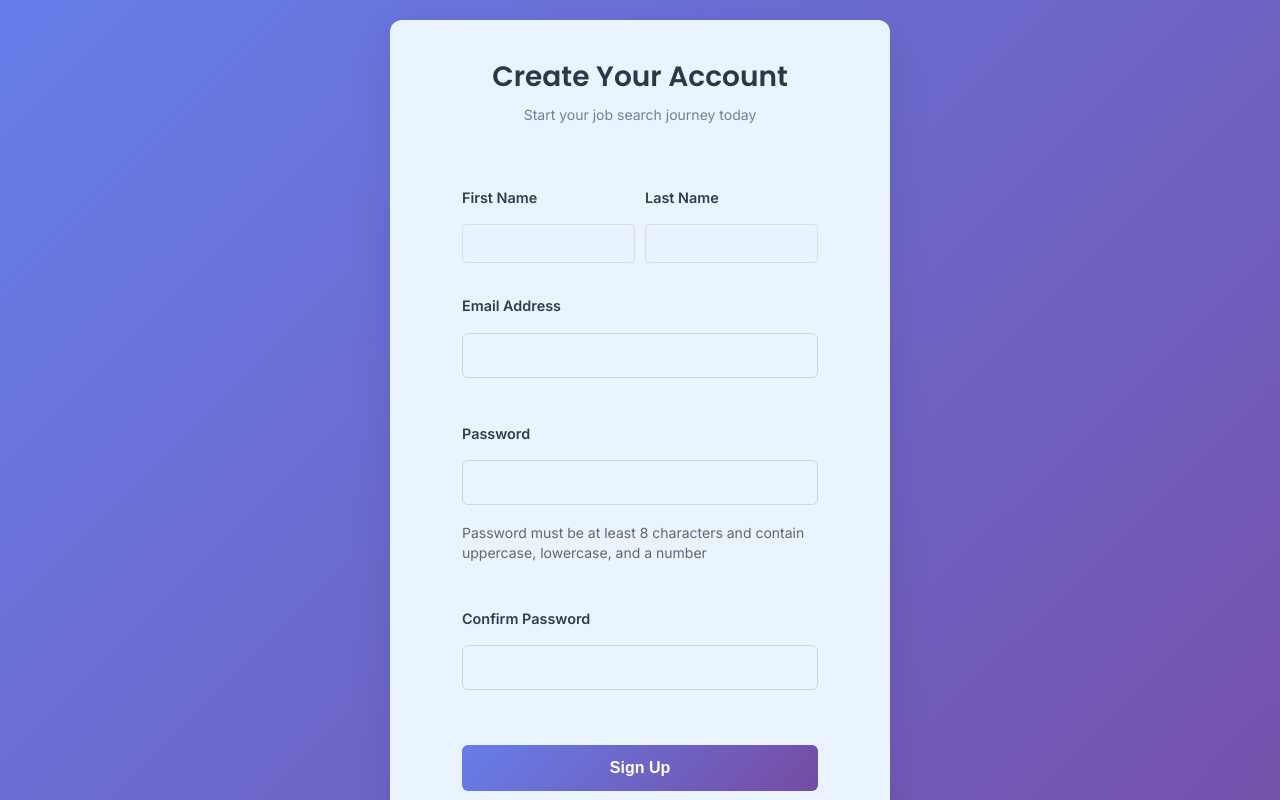
it: Register › shows password validation feedback when requirements are not met
Type "John" into the field labelled "First Name" at (548, 244), box [462,224,635,263]
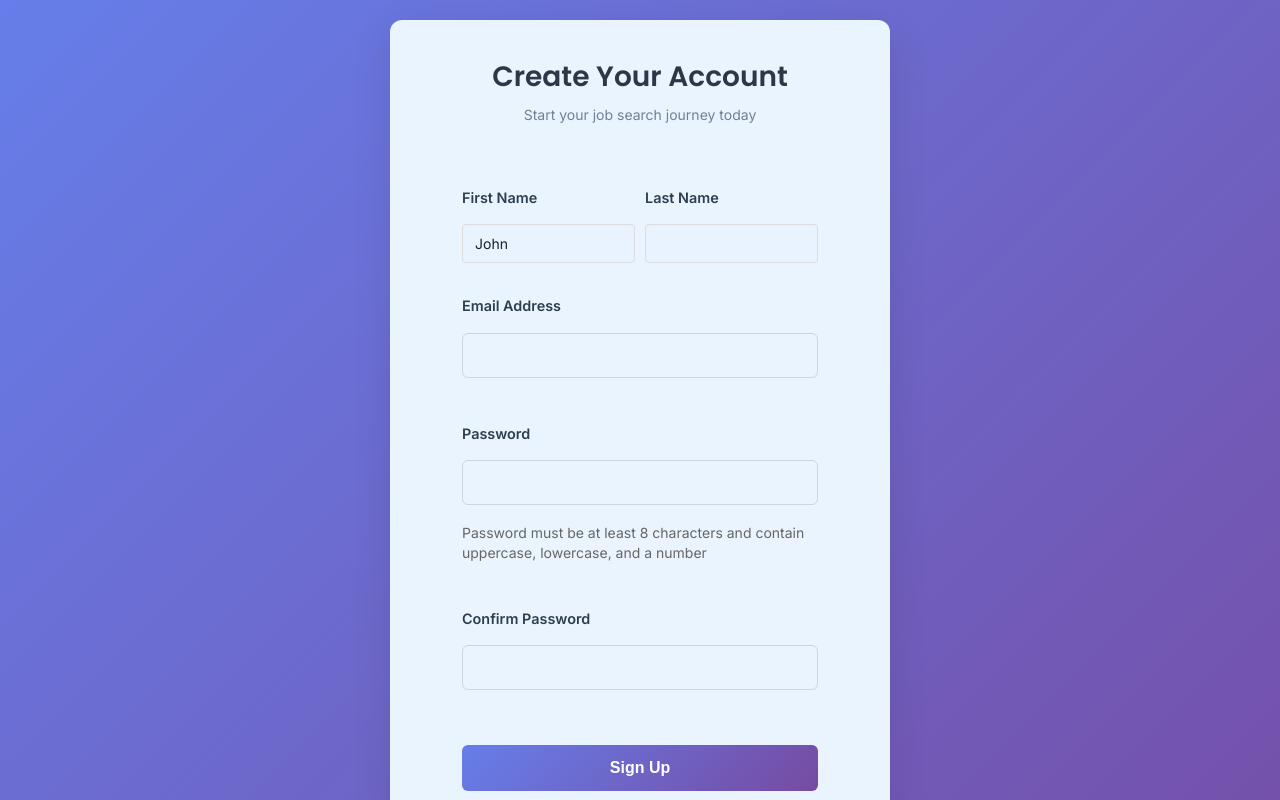
Type "Doe" into the field labelled "Last Name" at (732, 244), box [645,224,818,263]
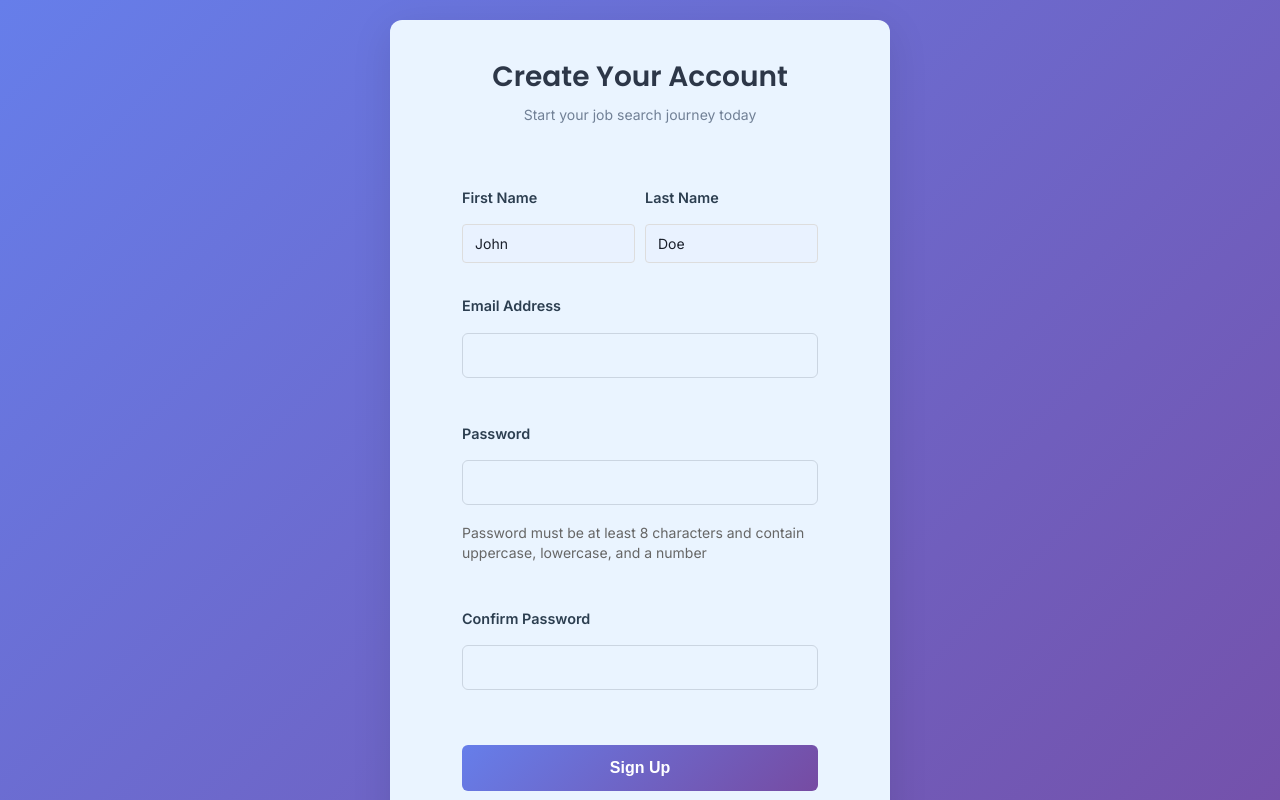
Type "john@example.com" into the field labelled "Email Address" at (640, 355), box [462,333,818,378]
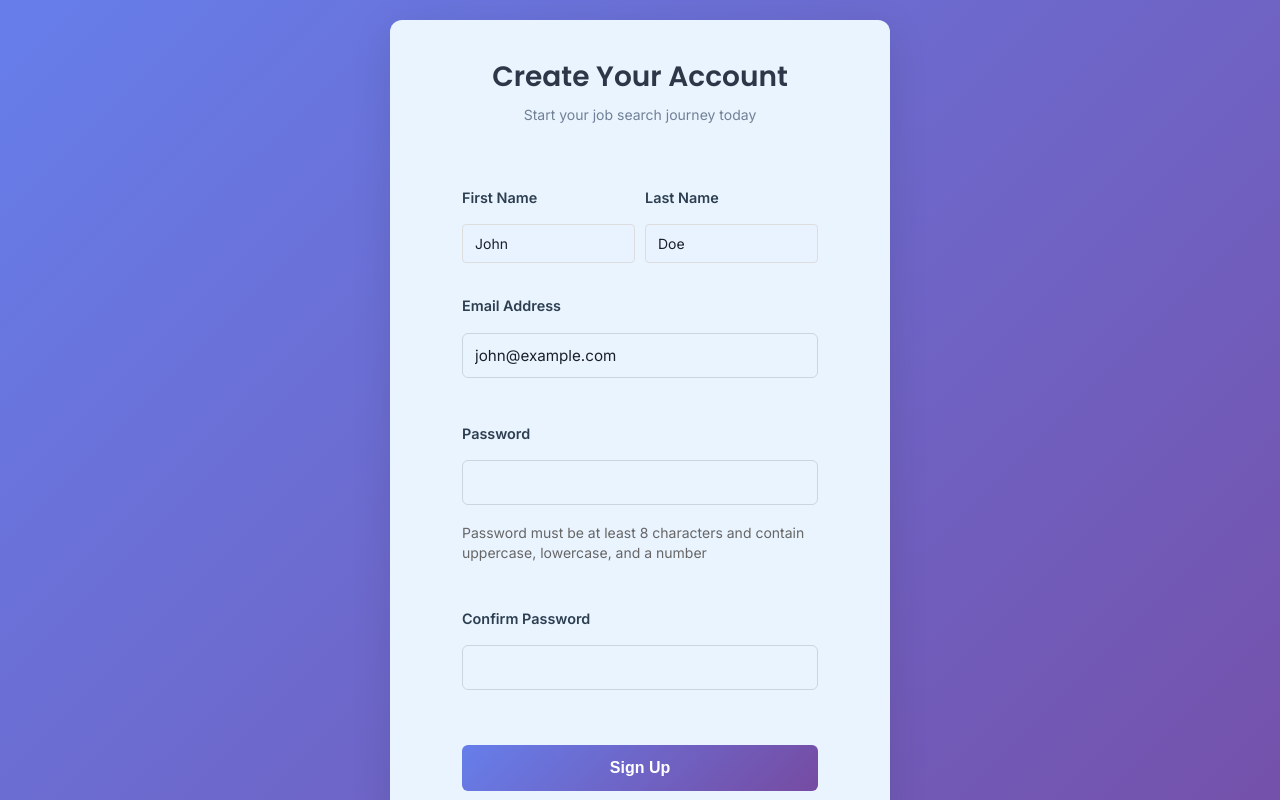
Type "short" into the password field labelled "Password" at (640, 483), box [462,460,818,505]
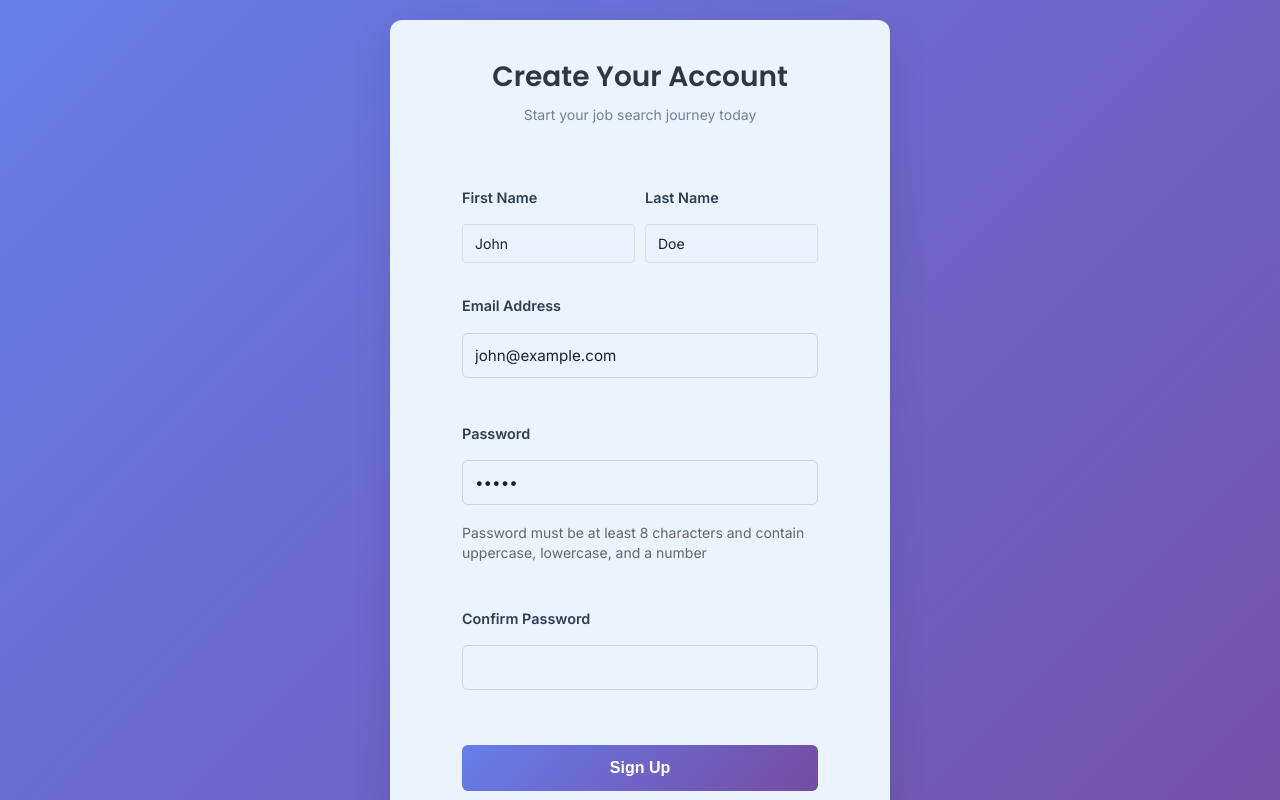
Type "short" into the password field labelled "Confirm Password" at (640, 668), box [462,645,818,690]
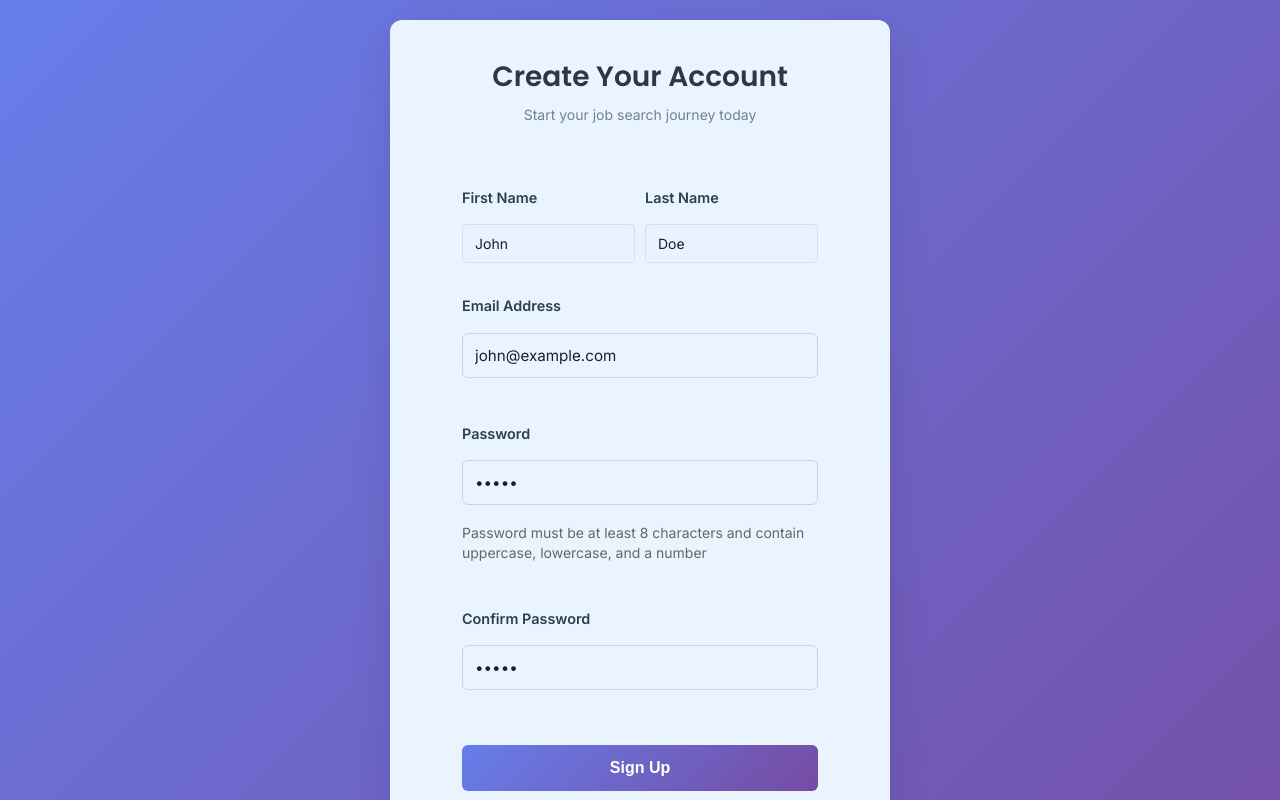
Click the button "Sign Up" at (640, 768), box [462,745,818,791]
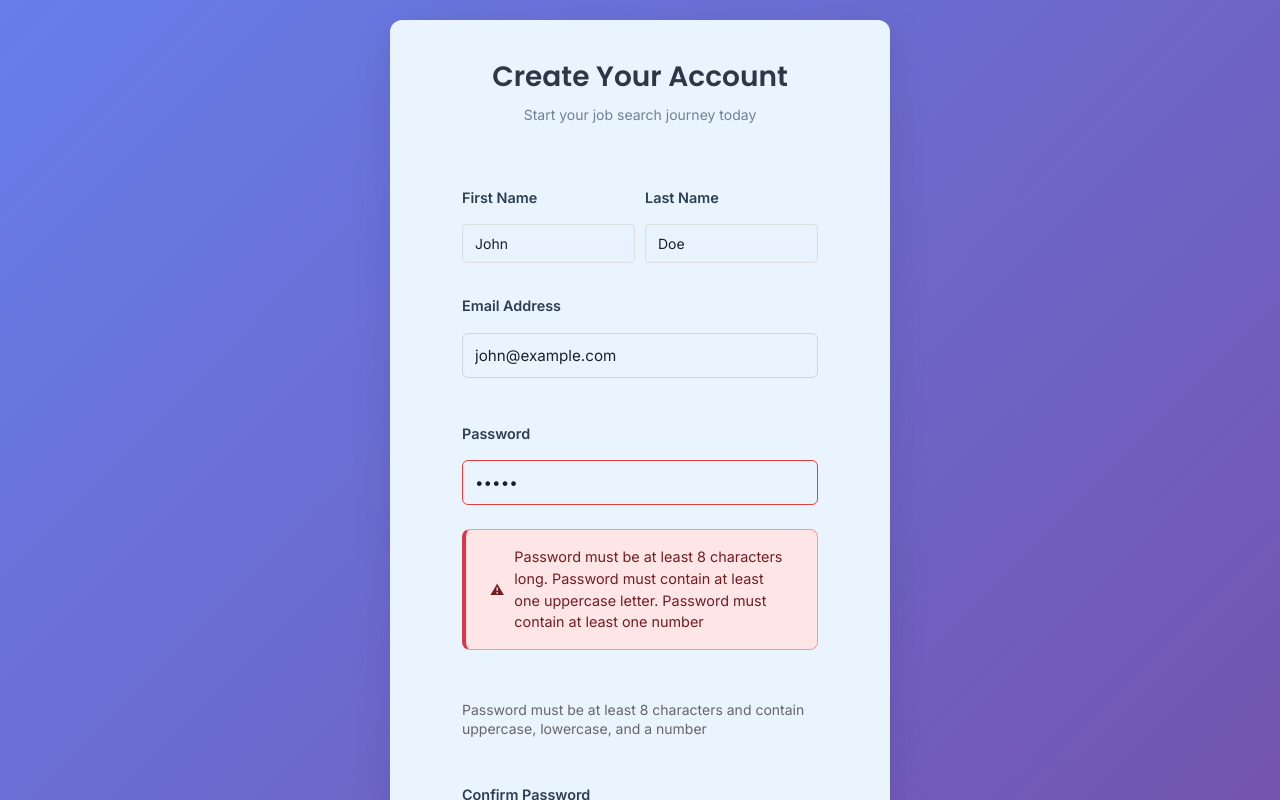
Check: the text "password must contain at least one number" is shown, box [514,548,782,630]
